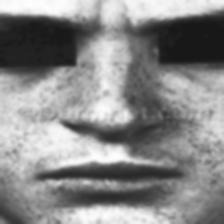Unclassified: (117, 70, 171, 106), (150, 202, 174, 220)
